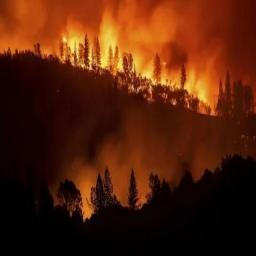Large fire: (1, 31, 245, 220)
Low smoke: (0, 0, 256, 184)
